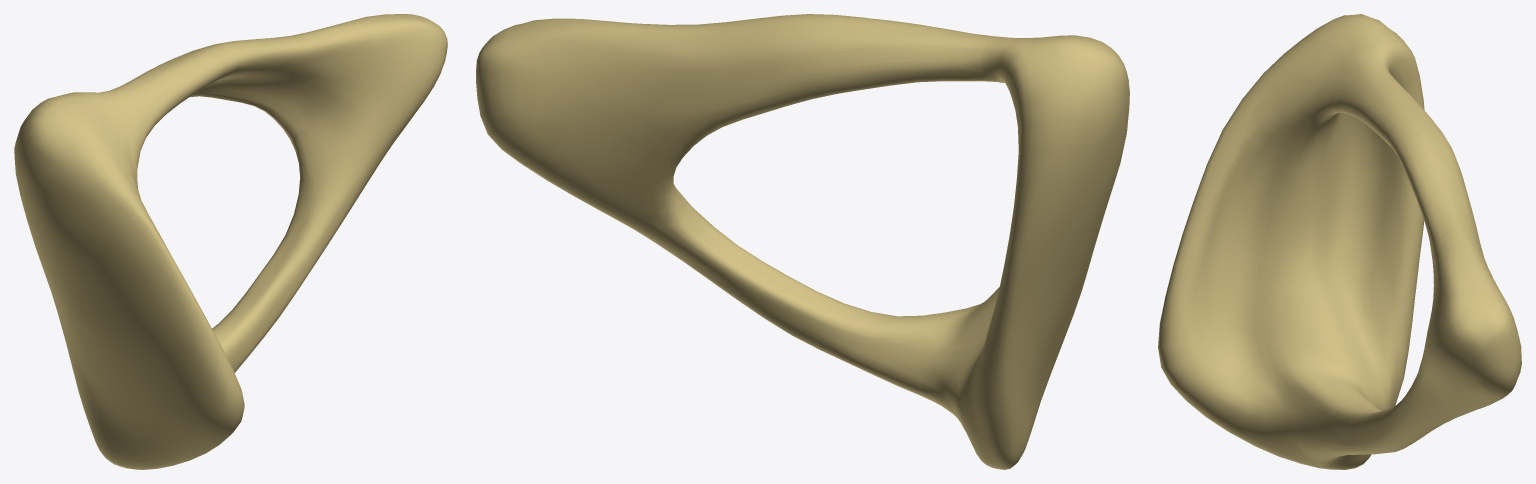
The picture shows the model from 3 angles, left to right: view 1: azimuth 30°, elevation 25°; view 2: azimuth 150°, elevation 25°; view 3: azimuth 270°, elevation 25°; orthographic projection. The views are drawn at different scales.
Parts seen in each view (by area): view 1: 左侧镫骨; view 2: 左侧镫骨; view 3: 左侧镫骨.
Boxes of the visible parts, x1,y1,x2,y2 form: 左侧镫骨: [14, 14, 447, 469]; 左侧镫骨: [476, 14, 1129, 469]; 左侧镫骨: [1158, 14, 1521, 469].
Size of the model in its own units: 0.00597 by 0.0045 by 0.00358.
